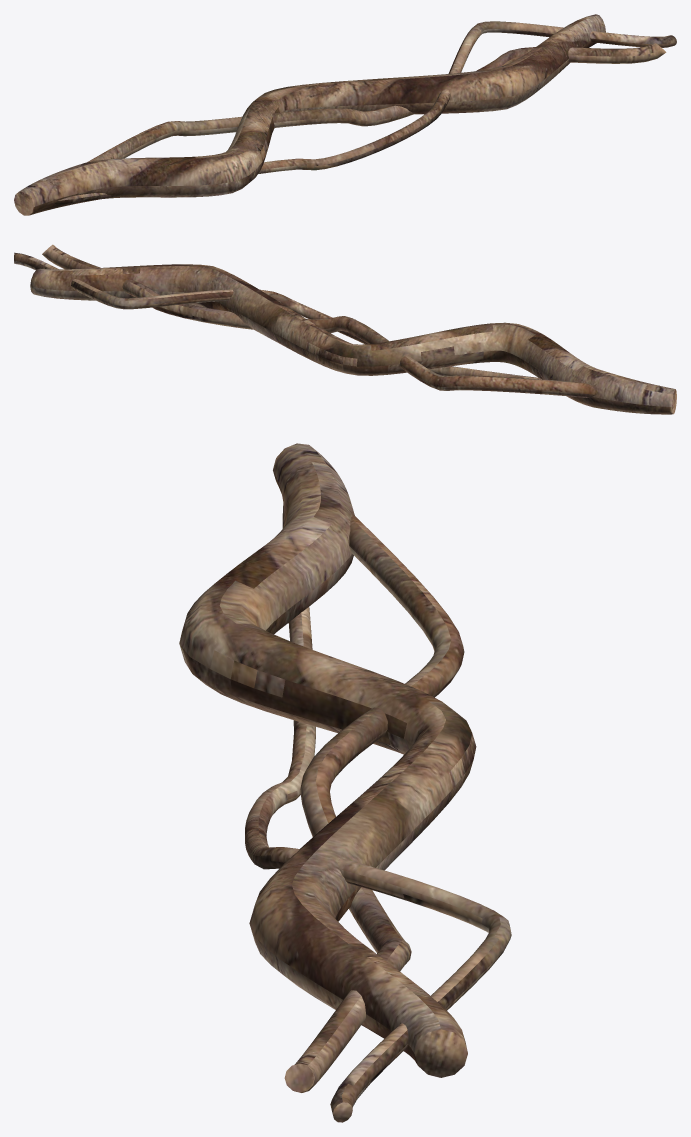
File: Amazonie_Liane.fbx
The picture shows the model from 3 angles, top to bottom: view 1: azimuth 30°, elevation 25°; view 2: azimuth 150°, elevation 25°; view 3: azimuth 270°, elevation 25°; orthographic projection. The views are drawn at different scales.
Parts seen in each view (by area): view 1: Liane_ModExport; view 2: Liane_ModExport; view 3: Liane_ModExport.
Part boxes in pixels (x1=…): Liane_ModExport: x1=14, y1=14, x2=676, y2=215; Liane_ModExport: x1=14, y1=244, x2=676, y2=414; Liane_ModExport: x1=179, y1=443, x2=511, y2=1122.
Size of the model in its own units: 406 by 30.56 by 89.23.
